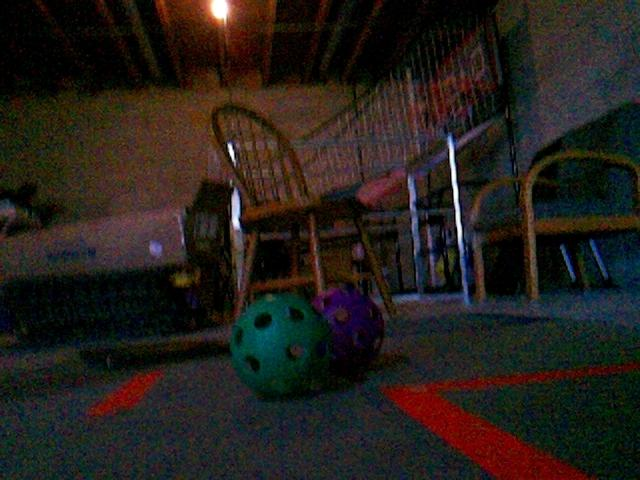Green: (227, 292, 333, 398)
Purple: (315, 286, 385, 376)
